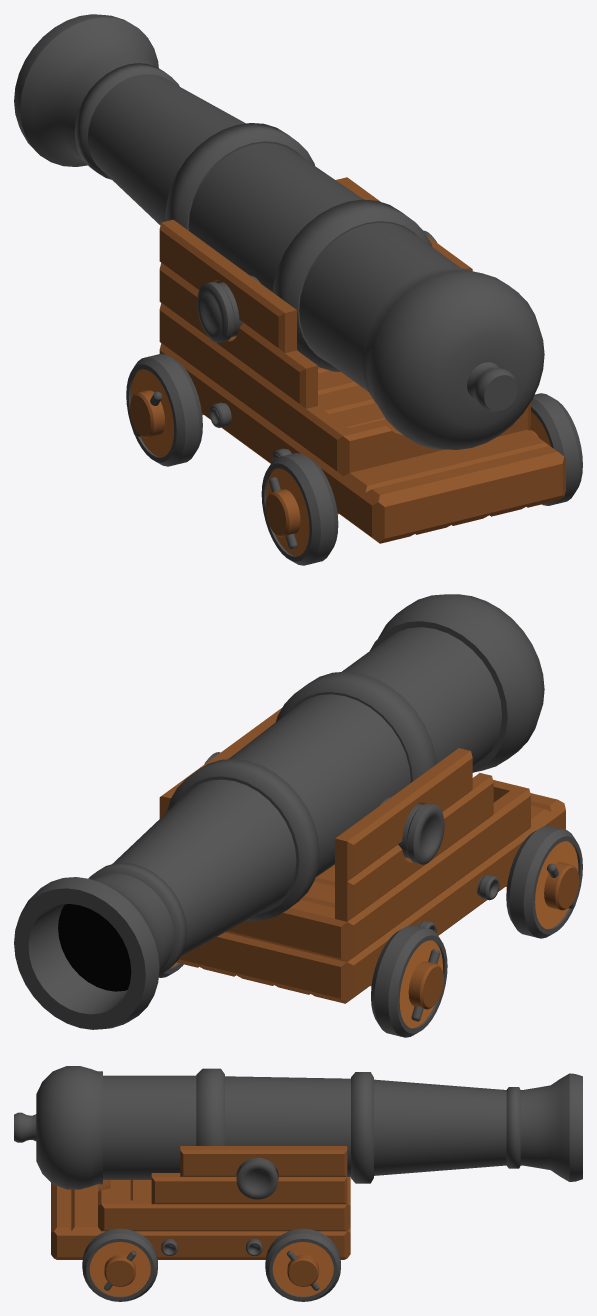
Rendered from CannonFixMaybe.fbx.
The picture shows the model from 3 angles, top to bottom: view 1: azimuth 30°, elevation 25°; view 2: azimuth 150°, elevation 25°; view 3: azimuth 270°, elevation 25°; orthographic projection. The views are drawn at different scales.
Visible parts, largest first — view 1: Cylinder, Cylinder.001, Cube.006, Cube.016, Cube.004, Cube.007, Cylinder.002, Cylinder.021, Cube.005, Cylinder.011, Cylinder.003, Cube.017 (+9 smaller); view 2: Cylinder, Cylinder.001, Cube.006, Cube.004, Cube.008, Cylinder.003, Cylinder.011, Cube.007, Cube.005, Cylinder.021, Cylinder.002, Cube.009 (+6 smaller); view 3: Cylinder, Cylinder.001, Cube.002, Cube.001, Cube, Cube.003, Cylinder.006, Cylinder.016, Cylinder.003, Cylinder.002, Cylinder.005, Cylinder.004 (+7 smaller).
Part boxes in pixels (box(x1,y1,x2,y2)): Cylinder: box(14, 14, 460, 391); Cylinder.001: box(362, 267, 544, 449); Cube.006: box(159, 303, 347, 475); Cube.016: box(378, 457, 564, 542); Cube.004: box(159, 219, 296, 353); Cube.007: box(159, 343, 378, 541); Cylinder.002: box(272, 199, 432, 371); Cylinder.021: box(126, 353, 202, 466); Cube.005: box(159, 263, 317, 408); Cylinder.011: box(261, 453, 338, 565); Cylinder.003: box(165, 123, 314, 230); Cube.017: box(343, 429, 549, 492); Cylinder: box(14, 627, 501, 1029); Cylinder.001: box(370, 594, 544, 772); Cube.006: box(347, 789, 530, 961); Cube.004: box(335, 748, 472, 881); Cube.008: box(178, 932, 347, 1001); Cylinder.003: box(167, 759, 319, 921); Cylinder.011: box(506, 825, 582, 938); Cube.007: box(347, 803, 565, 1001); Cube.005: box(335, 773, 493, 921); Cylinder.021: box(371, 925, 447, 1037); Cylinder.002: box(276, 671, 436, 782); Cube.009: box(225, 903, 347, 961); Cylinder: box(103, 1073, 582, 1181); Cylinder.001: box(14, 1066, 102, 1189); Cube.002: box(101, 1200, 347, 1231); Cube.001: box(151, 1173, 347, 1204); Cube: box(180, 1146, 347, 1176); Cube.003: box(54, 1231, 347, 1258); Cylinder.006: box(82, 1228, 157, 1301); Cylinder.016: box(265, 1228, 340, 1301); Cylinder.003: box(351, 1072, 373, 1183); Cylinder.002: box(196, 1068, 224, 1145); Cylinder.005: box(236, 1157, 278, 1199); Cylinder.004: box(506, 1087, 520, 1168).
Bounding box in the file's own units: 725 × 656 × 1804.
